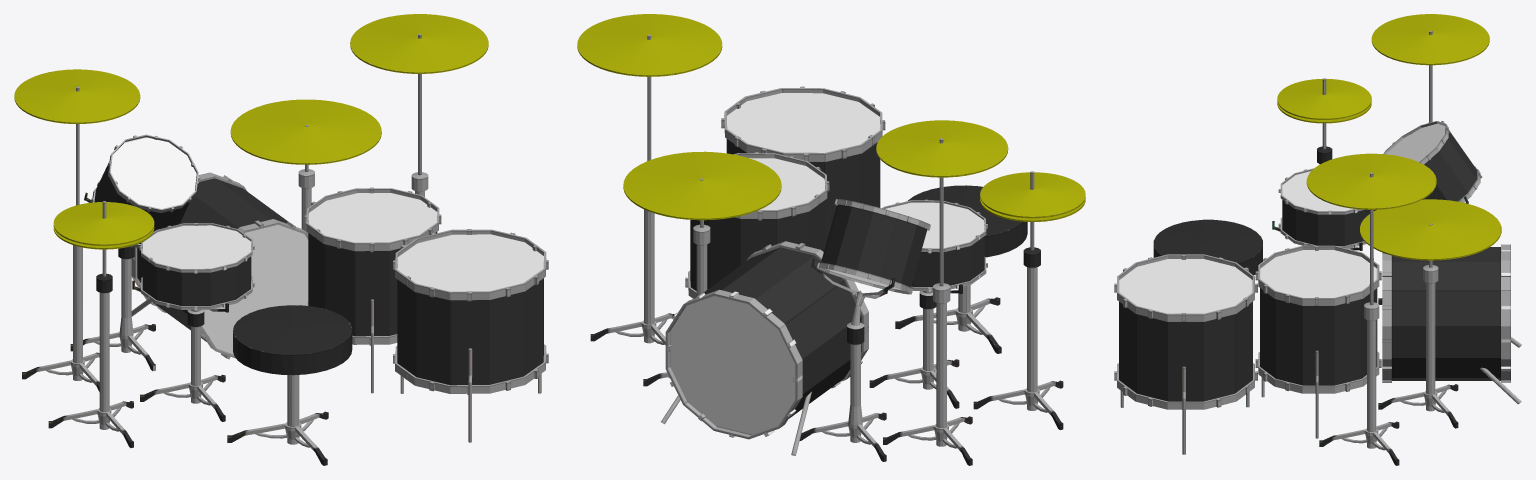
Rendered from batoski-drum-kit.glb.
3 renders of one model, left to right at view 1: azimuth 30°, elevation 25°; view 2: azimuth 150°, elevation 25°; view 3: azimuth 270°, elevation 25°, orthographic. The views are drawn at different scales.
Visible parts, largest first — view 1: BigFL_1, BigFL, BigKick, Sgabello, Bigsnare, Ride, BigTOM, Crash_1, Crash, HHT, rEGGIhh, Asta Crash (+4 smaller); view 2: BigKick, BigFL_1, BigFL, Ride, BigTOM, Crash_1, Crash, Bigsnare, Sgabello, HHT, Asta Crash, rEGGIhh (+4 smaller); view 3: BigFL_1, BigFL, BigKick, Ride, Crash_1, Crash, Bigsnare, BigTOM, Sgabello, HHT, Asta Crash_1, Asta Ride (+1 smaller).
Part boxes in pixels (left/top/right/bottom): BigFL_1: left=393, top=229, right=548, bottom=442; BigFL: left=304, top=187, right=441, bottom=393; BigKick: left=131, top=172, right=308, bottom=359; Sgabello: left=227, top=305, right=352, bottom=465; Bigsnare: left=139, top=223, right=254, bottom=310; Ride: left=230, top=99, right=381, bottom=164; BigTOM: left=90, top=134, right=199, bottom=247; Crash_1: left=350, top=14, right=488, bottom=73; Crash: left=14, top=69, right=140, bottom=123; HHT: left=53, top=202, right=154, bottom=245; rEGGIhh: left=48, top=201, right=133, bottom=447; Asta Crash: left=22, top=86, right=99, bottom=391; BigKick: left=661, top=241, right=868, bottom=455; BigFL_1: left=721, top=86, right=885, bottom=245; BigFL: left=685, top=152, right=829, bottom=298; Ride: left=623, top=151, right=781, bottom=220; BigTOM: left=816, top=198, right=930, bottom=294; Crash_1: left=577, top=14, right=722, bottom=76; Crash: left=876, top=120, right=1008, bottom=177; Bigsnare: left=882, top=199, right=987, bottom=292; Sgabello: left=895, top=185, right=1027, bottom=353; HHT: left=980, top=172, right=1085, bottom=218; Asta Crash: left=883, top=138, right=972, bottom=465; rEGGIhh: left=973, top=171, right=1063, bottom=429; BigFL_1: left=1114, top=254, right=1257, bottom=454; BigFL: left=1255, top=245, right=1381, bottom=438; BigKick: left=1382, top=244, right=1521, bottom=404; Ride: left=1360, top=199, right=1501, bottom=260; Crash_1: left=1306, top=153, right=1436, bottom=209; Crash: left=1371, top=14, right=1489, bottom=65; Bigsnare: left=1278, top=168, right=1376, bottom=248; BigTOM: left=1383, top=121, right=1482, bottom=202; Sgabello: left=1153, top=219, right=1262, bottom=275; HHT: left=1277, top=79, right=1371, bottom=119; Asta Crash_1: left=1319, top=172, right=1399, bottom=465; Asta Ride: left=1378, top=223, right=1458, bottom=428.
Bounding box in the file's own units: 5.1 × 3.2 × 4.32.
Materials: 1 (1 with a texture image).
